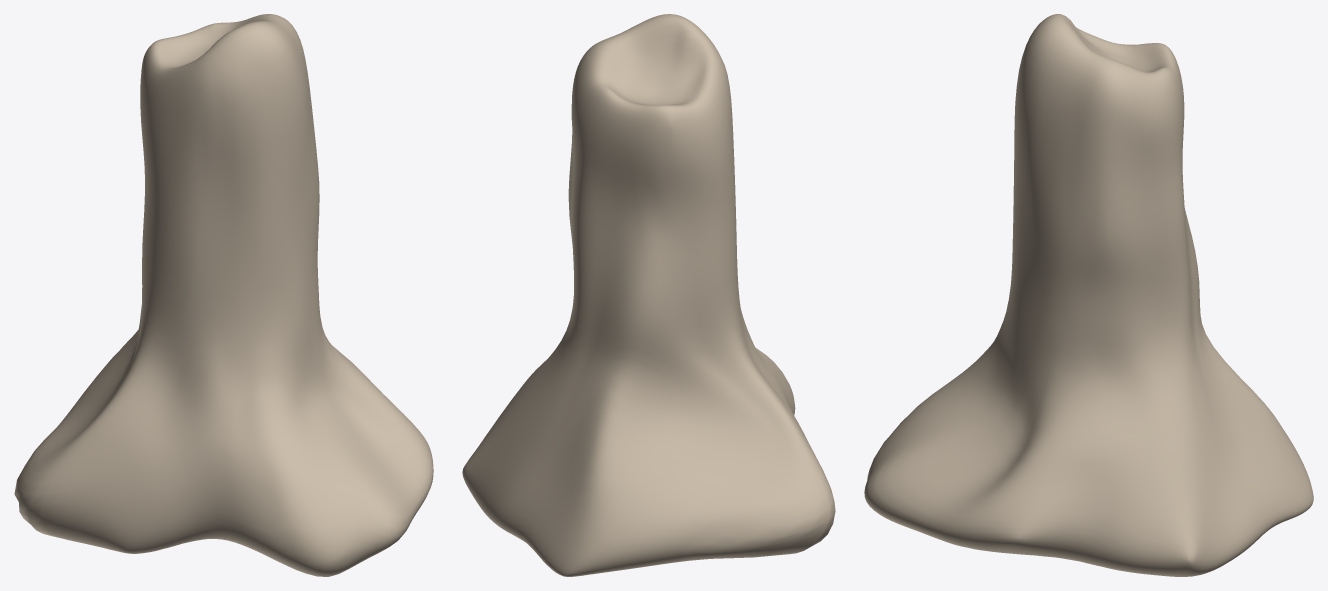
The model's file is moyenne_bougie.fbx.
The picture shows the model from 3 angles, left to right: view 1: azimuth 30°, elevation 25°; view 2: azimuth 150°, elevation 25°; view 3: azimuth 270°, elevation 25°; orthographic projection. The views are drawn at different scales.
Parts seen in each view (by area): view 1: pCylinder5; view 2: pCylinder5; view 3: pCylinder5.
Part boxes in pixels (<box>): pCylinder5: <box>14,14,433,576</box>; pCylinder5: <box>462,14,835,576</box>; pCylinder5: <box>864,14,1313,576</box>.
Size of the model in its own units: 0.2937 by 0.3955 by 0.3223.
